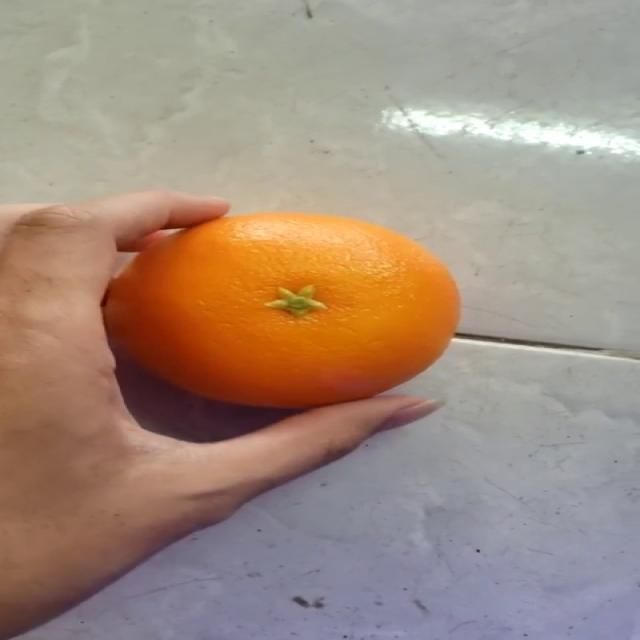Orange: (102, 209, 461, 409)
